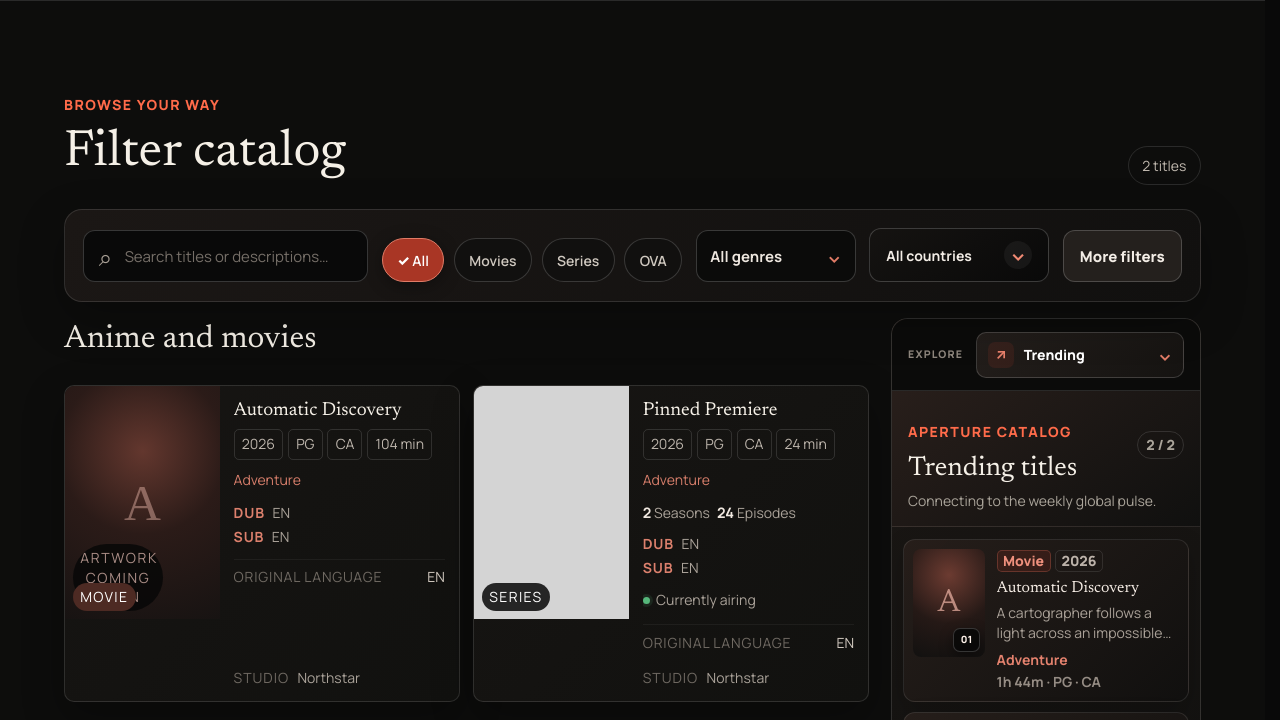
Test: CatalogFilterBrowser discovery panel › leads with ordered Studio cards and fills from criteria without duplicates
This screenshot has width=1280, height=720.
Click the button "↗ Trending ⌄": (1080, 355) [976,332,1184,378]
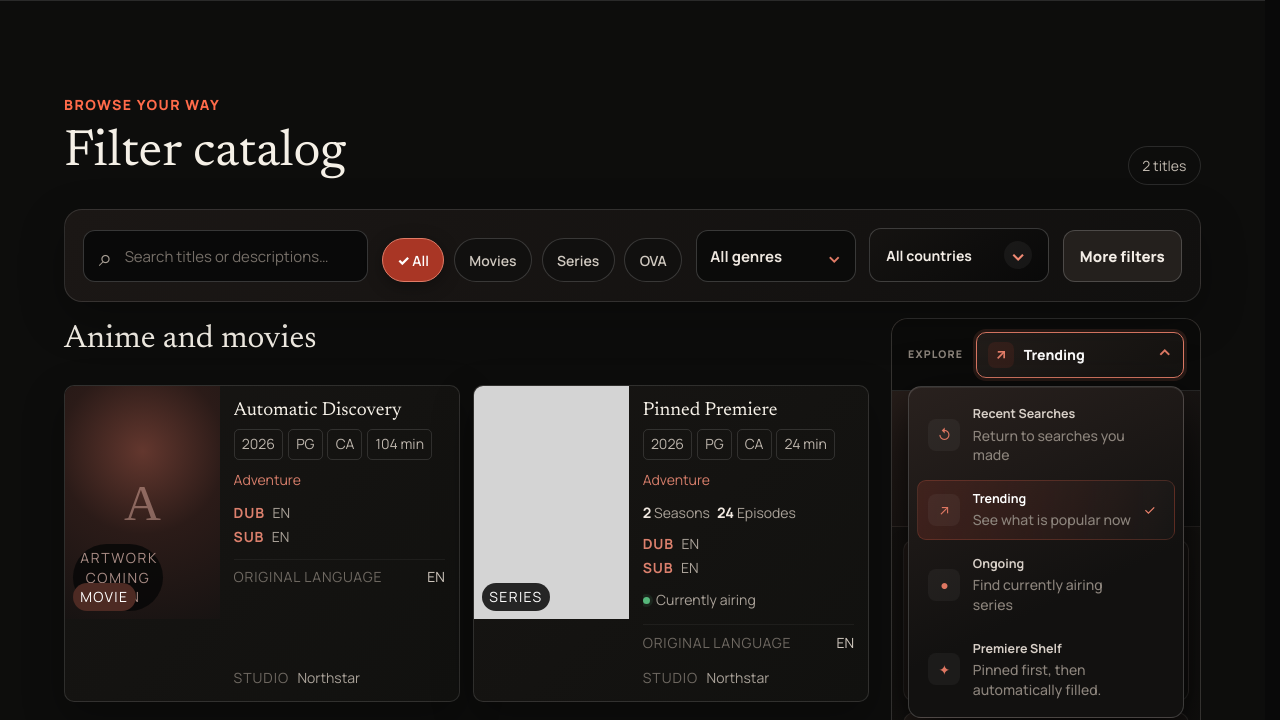
Click the option "✦ Premiere Shelf Pinned first, then automatically filled.": (1046, 669) [917,630,1175,709]
(page scrolled)
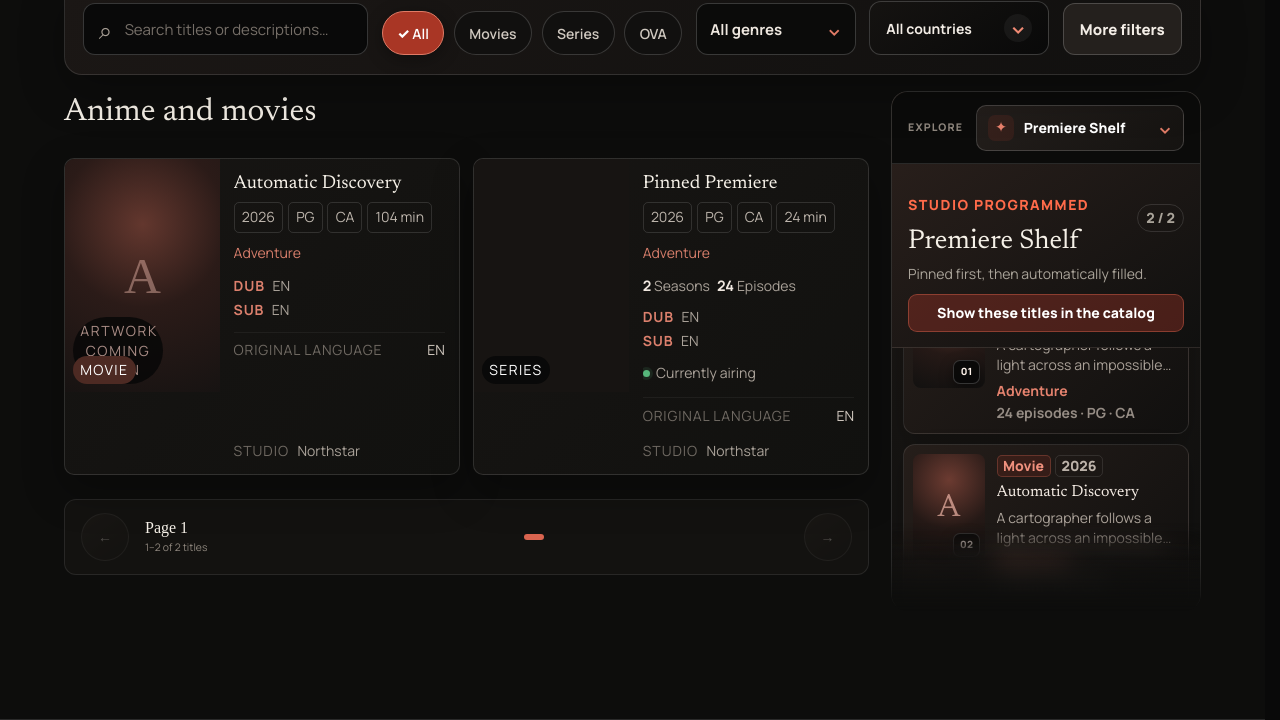
Now the link "Automatic Discovery" is shown, box [903,444,1189,607]
